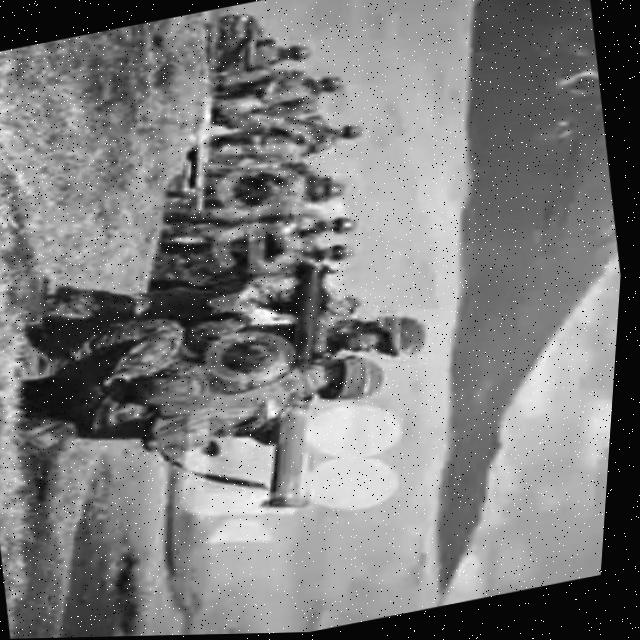rocket: (228, 253, 374, 517)
